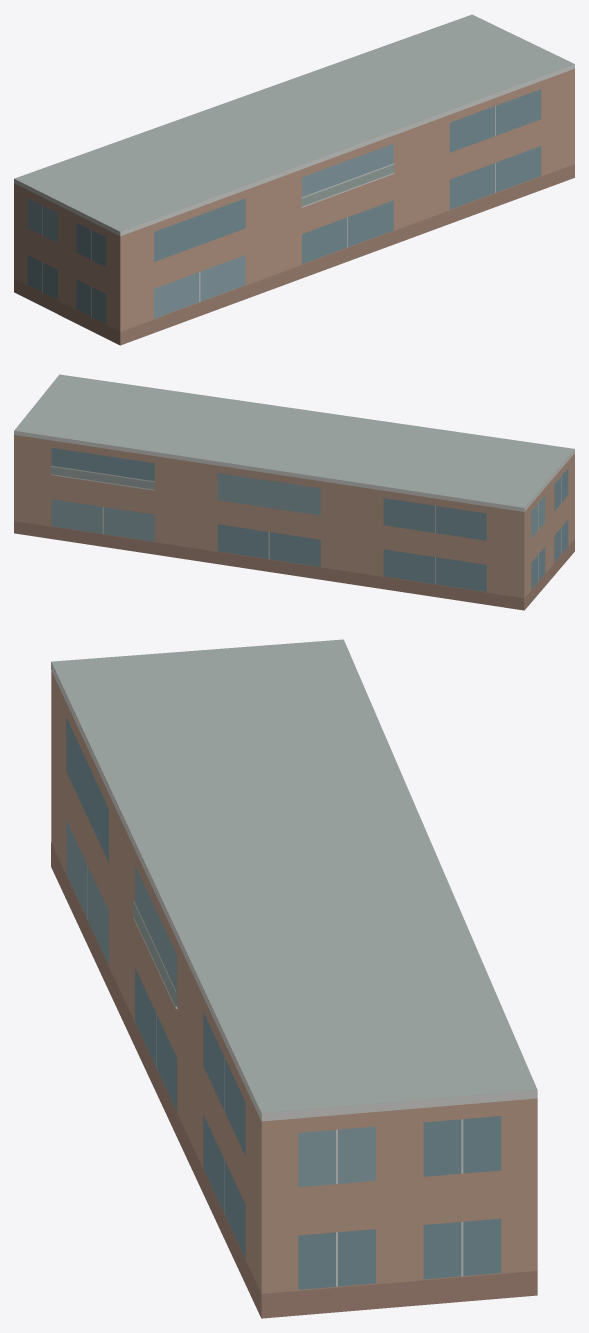
Rendered from survey-upis-32687181.glb.
The picture shows the model from 3 angles, top to bottom: view 1: azimuth 30°, elevation 25°; view 2: azimuth 150°, elevation 25°; view 3: azimuth 270°, elevation 25°; orthographic projection. The views are drawn at different scales.
Visible parts, largest first — view 1: survey-upis-32687181.tmp; view 2: survey-upis-32687181.tmp; view 3: survey-upis-32687181.tmp.
Boxes of the visible parts, box(x1,y1,x2,y2) form: survey-upis-32687181.tmp: box(14, 14, 574, 345); survey-upis-32687181.tmp: box(14, 374, 574, 610); survey-upis-32687181.tmp: box(51, 639, 537, 1318).
Size of the model in its own units: 30.23 by 6.1 by 13.12.
